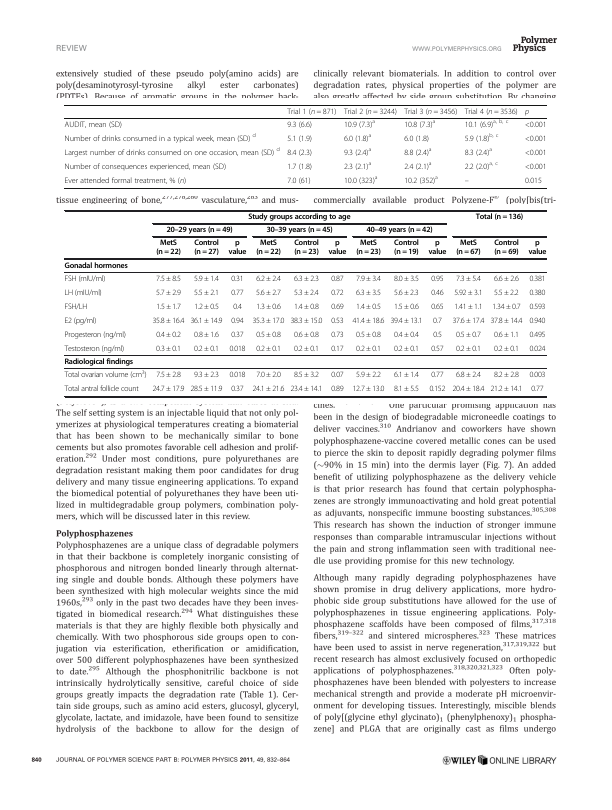borderless: (63, 209, 546, 396), (63, 103, 547, 188)
cell: (64, 146, 281, 158), (64, 132, 257, 144), (64, 162, 227, 172), (64, 176, 187, 186), (247, 213, 351, 222), (64, 369, 147, 380), (265, 226, 334, 236), (64, 385, 140, 394), (165, 226, 233, 236), (365, 226, 433, 236), (64, 261, 129, 271), (64, 330, 127, 340), (64, 358, 134, 367), (64, 344, 125, 354), (64, 120, 123, 130), (464, 118, 509, 130), (155, 239, 182, 258), (193, 239, 220, 258), (255, 239, 282, 258), (293, 239, 320, 258), (355, 239, 382, 258), (393, 239, 420, 258), (455, 239, 482, 258), (493, 239, 520, 258), (343, 107, 398, 116), (403, 107, 458, 116), (464, 107, 519, 116), (286, 107, 337, 116), (475, 213, 524, 222), (403, 174, 439, 186), (464, 132, 499, 144), (464, 160, 499, 172), (343, 174, 378, 186), (64, 274, 106, 284), (343, 118, 376, 130), (403, 118, 436, 130), (64, 288, 103, 298), (327, 239, 347, 258), (427, 239, 447, 258), (527, 239, 547, 258), (228, 239, 247, 258), (343, 132, 372, 144), (343, 146, 372, 158), (403, 146, 432, 158), (464, 146, 493, 158), (343, 160, 372, 172), (403, 160, 432, 172), (151, 316, 185, 326), (189, 316, 223, 326), (251, 316, 285, 326), (289, 316, 323, 326), (351, 316, 385, 326), (389, 316, 423, 326), (451, 316, 485, 326), (489, 316, 523, 326), (64, 316, 97, 326), (453, 302, 484, 312), (491, 302, 522, 312), (151, 385, 185, 394), (189, 385, 223, 394), (251, 385, 285, 394), (289, 385, 323, 394), (351, 385, 385, 394), (451, 385, 485, 394), (489, 385, 523, 394), (453, 288, 483, 298), (286, 120, 313, 130), (286, 134, 313, 144), (403, 134, 430, 144), (286, 148, 313, 158), (286, 162, 313, 172), (155, 274, 182, 284), (193, 274, 220, 284), (255, 274, 282, 284), (293, 274, 320, 284), (355, 274, 382, 284), (393, 274, 420, 284), (455, 274, 482, 284), (493, 274, 520, 284), (155, 288, 182, 298), (193, 288, 220, 298), (255, 288, 282, 298), (293, 288, 320, 298), (355, 288, 382, 298), (393, 288, 420, 298), (493, 288, 520, 298), (155, 302, 182, 312), (193, 302, 220, 312), (255, 302, 282, 312), (293, 302, 320, 312), (355, 302, 382, 312), (393, 302, 420, 312), (155, 330, 182, 340), (193, 330, 220, 340), (255, 330, 282, 340), (293, 330, 320, 340), (355, 330, 382, 340), (393, 330, 420, 340), (455, 330, 482, 340), (493, 330, 520, 340), (155, 344, 182, 354), (193, 344, 220, 354), (255, 344, 282, 354), (293, 344, 320, 354), (355, 344, 382, 354), (393, 344, 420, 354), (455, 344, 482, 354), (493, 344, 520, 354), (286, 176, 311, 186), (155, 371, 182, 380), (193, 371, 220, 380), (255, 371, 282, 380), (293, 371, 320, 380), (355, 371, 382, 380), (393, 371, 420, 380), (455, 371, 482, 380), (493, 371, 520, 380), (393, 385, 420, 394), (64, 302, 88, 312), (524, 120, 547, 130), (524, 134, 547, 144), (524, 148, 547, 158), (524, 162, 547, 172), (524, 176, 543, 186), (528, 274, 546, 284), (528, 288, 546, 298), (528, 302, 546, 312), (528, 316, 546, 326), (528, 330, 546, 340), (228, 344, 246, 354), (528, 344, 546, 354), (228, 371, 246, 380), (528, 371, 546, 380), (428, 385, 446, 394), (230, 274, 245, 284), (330, 274, 345, 284), (330, 302, 345, 312), (430, 302, 445, 312), (330, 316, 345, 326), (230, 330, 245, 340), (330, 330, 345, 340), (330, 344, 345, 354), (430, 274, 444, 284), (230, 288, 244, 298), (330, 288, 344, 298), (430, 288, 444, 298), (230, 316, 244, 326), (430, 344, 444, 354), (330, 371, 345, 380), (330, 385, 345, 394), (430, 371, 444, 380), (230, 385, 244, 394), (530, 385, 544, 394), (232, 302, 243, 312), (432, 316, 443, 326), (432, 330, 443, 340), (524, 109, 530, 116), (464, 180, 470, 184)
